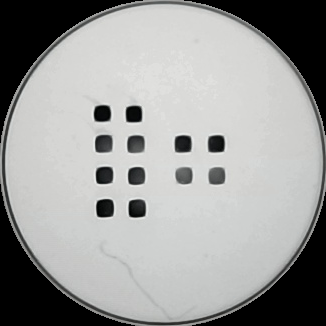检查点: (92, 131, 116, 155), (204, 134, 230, 155), (125, 132, 148, 155), (126, 165, 148, 189), (171, 134, 195, 155), (93, 198, 116, 219), (127, 199, 151, 219), (174, 166, 196, 187), (94, 166, 115, 187), (124, 105, 146, 125), (92, 104, 113, 124), (207, 166, 227, 186)
